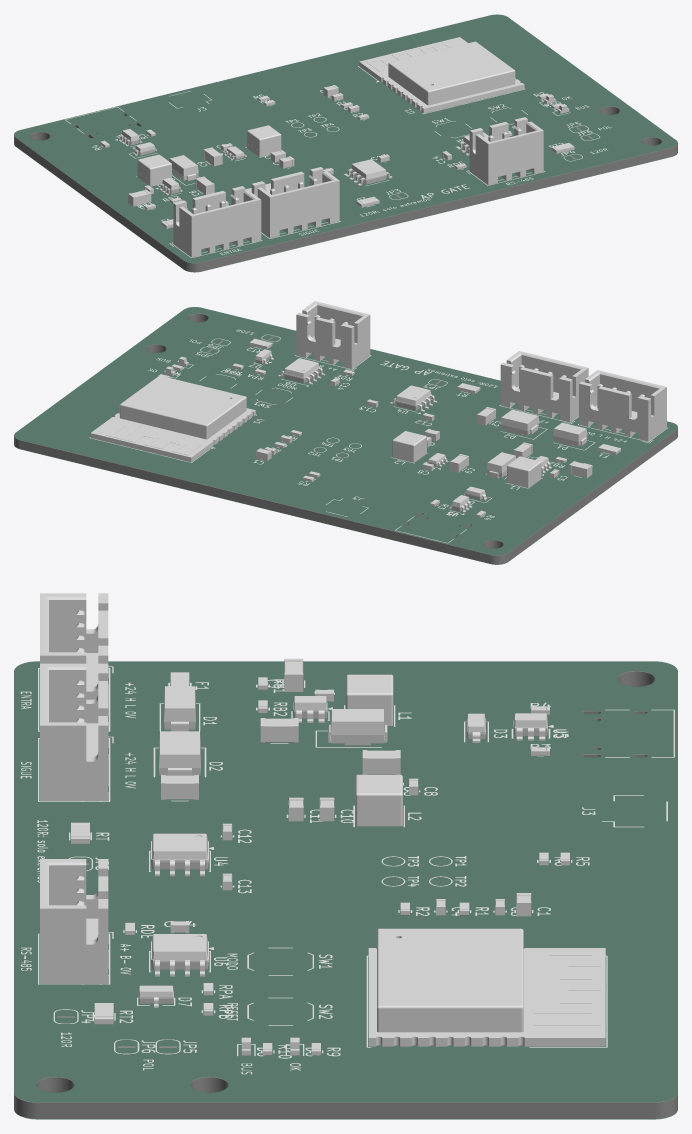
Rendered from AP_Gate.glb.
3 views of the same model, one above another, from view 1: azimuth 30°, elevation 25°; view 2: azimuth 150°, elevation 25°; view 3: azimuth 270°, elevation 25° (orthographic). The views are drawn at different scales.
Parts seen in each view (by area): view 1: =>[0:1:1:24], =>[0:1:1:22], U1, J1, J2, J4, =>[0:1:1:20], L2, L1, U4, =>[0:1:1:23], D4; view 2: =>[0:1:1:24], =>[0:1:1:22], U1, J1, J2, J4, =>[0:1:1:20], L2, L1, D2, U6, U4 (+3 smaller); view 3: =>[0:1:1:24], =>[0:1:1:22], U1, =>[0:1:1:20], J2, J4, J1, L2, U4, U6, D4, D2 (+7 smaller).
Part boxes in pixels (x1,y1,x2,y2): =>[0:1:1:24]: (14,15,677,272); =>[0:1:1:22]: (14,14,677,262); U1: (359,37,524,113); J1: (173,186,261,257); J2: (251,167,339,238); J4: (469,117,543,184); =>[0:1:1:20]: (65,66,611,257); L2: (247,125,281,156); L1: (137,154,171,185); U4: (345,159,392,185); =>[0:1:1:23]: (15,146,676,272); D4: (169,155,198,181); =>[0:1:1:24]: (14,308,677,564); =>[0:1:1:22]: (14,307,677,555); U1: (90,375,255,461); J1: (579,370,666,441); J2: (500,351,588,422); J4: (296,301,370,368); =>[0:1:1:20]: (89,329,667,543); L2: (392,431,426,462); L1: (507,456,541,487); D2: (500,409,539,435); U6: (278,358,325,384); U4: (390,385,437,412); =>[0:1:1:24]: (14,662,677,1118); =>[0:1:1:22]: (14,661,677,1102); U1: (368,928,605,1046); =>[0:1:1:20]: (20,666,674,1074); J2: (40,663,108,800); J4: (40,859,108,983); J1: (40,593,108,699); L2: (355,774,402,826); U4: (151,833,208,876); U6: (151,934,208,976); D4: (328,709,387,745); D2: (159,731,200,775).
Bounding box in the file's own units: 0.088 × 0.0104 × 0.056.
